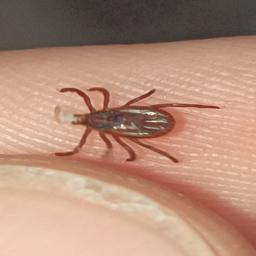Rhipicephalus sanguineus: (54, 87, 220, 164)
